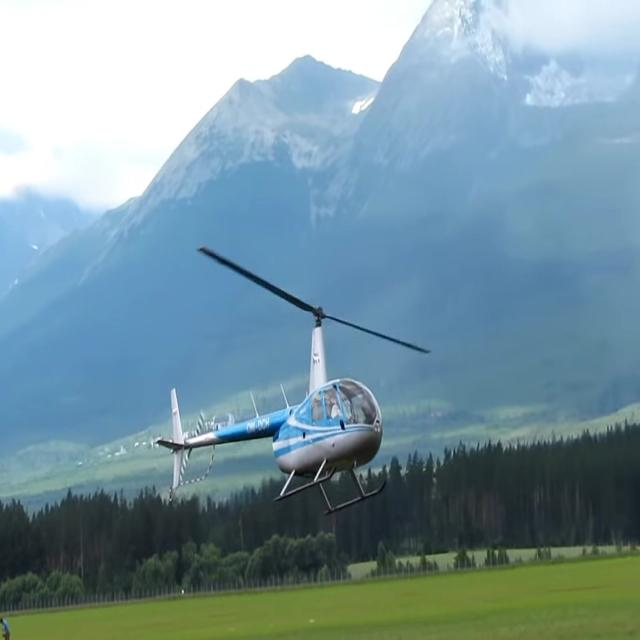CIV_HELO: (151, 304, 386, 517)
